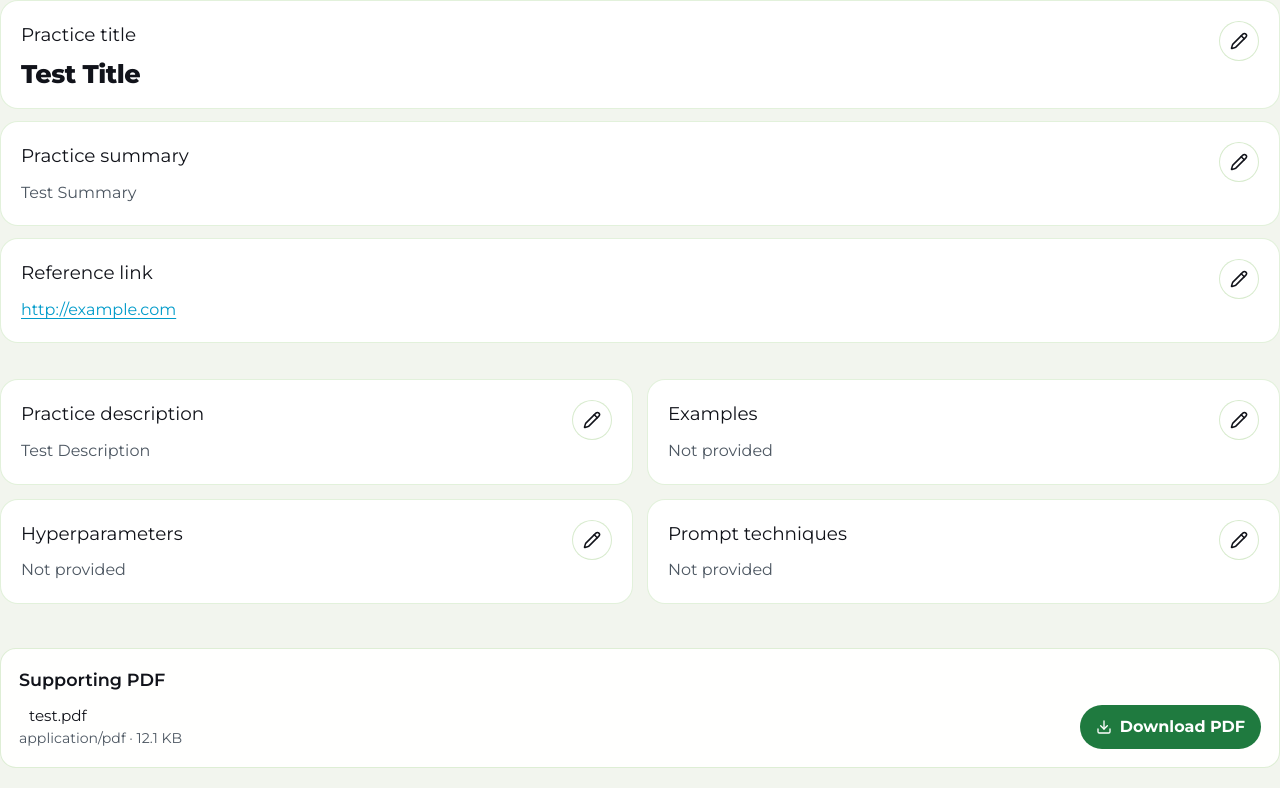
RequestDetailsClient › should allow requester to edit a field
Click the button named "Edit" at (1239, 41), box [1219,21,1259,61]
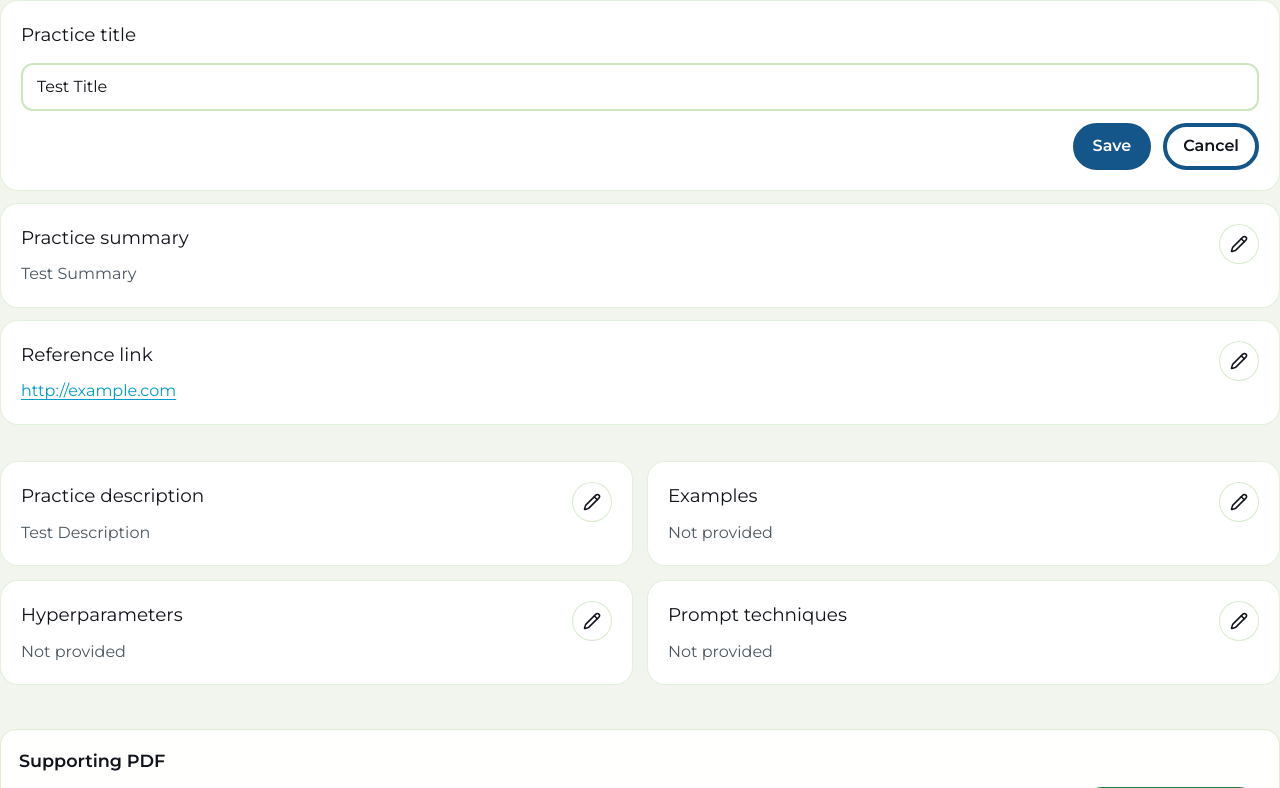
Expected: the field named "Practice title" is shown
Replace the text in the field named "Practice title" with "New Title" at (640, 87), box [21,63,1259,111]
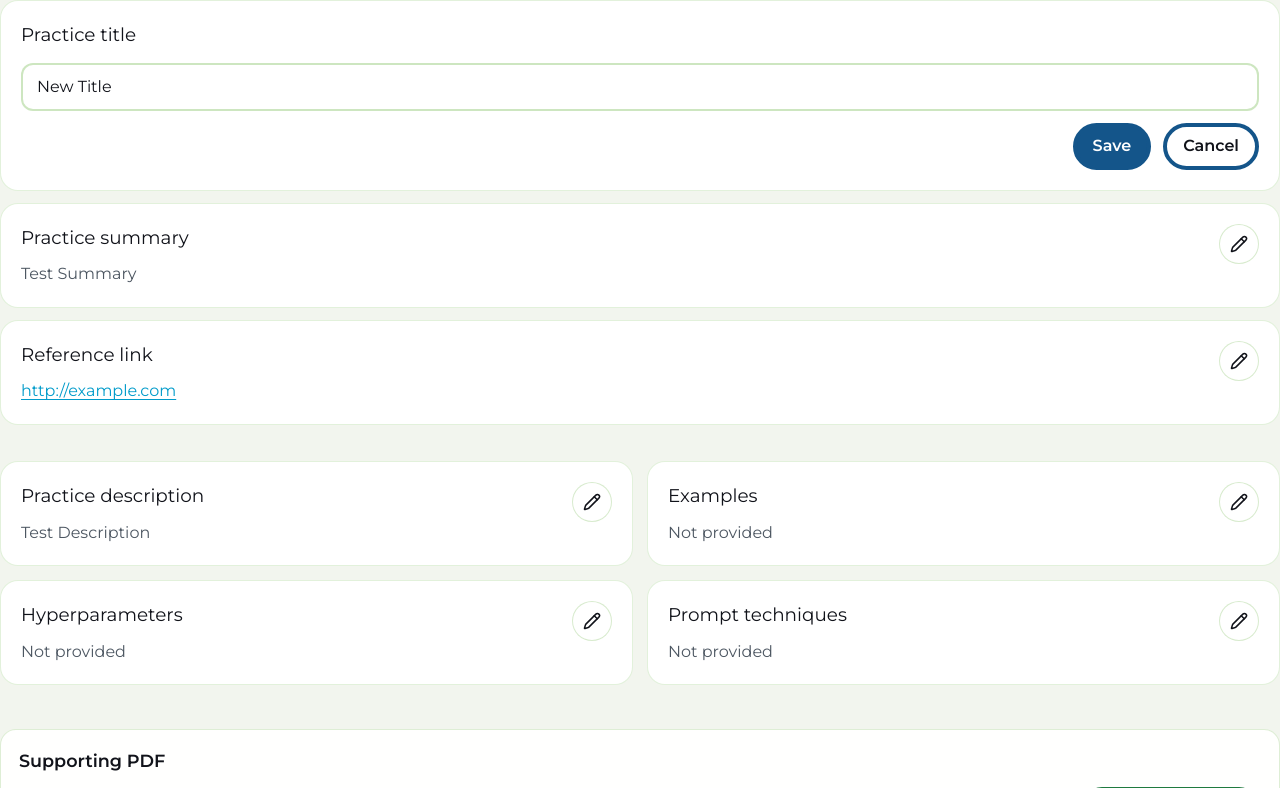
Click the button "Save" at (1112, 146), box [1073,123,1151,170]
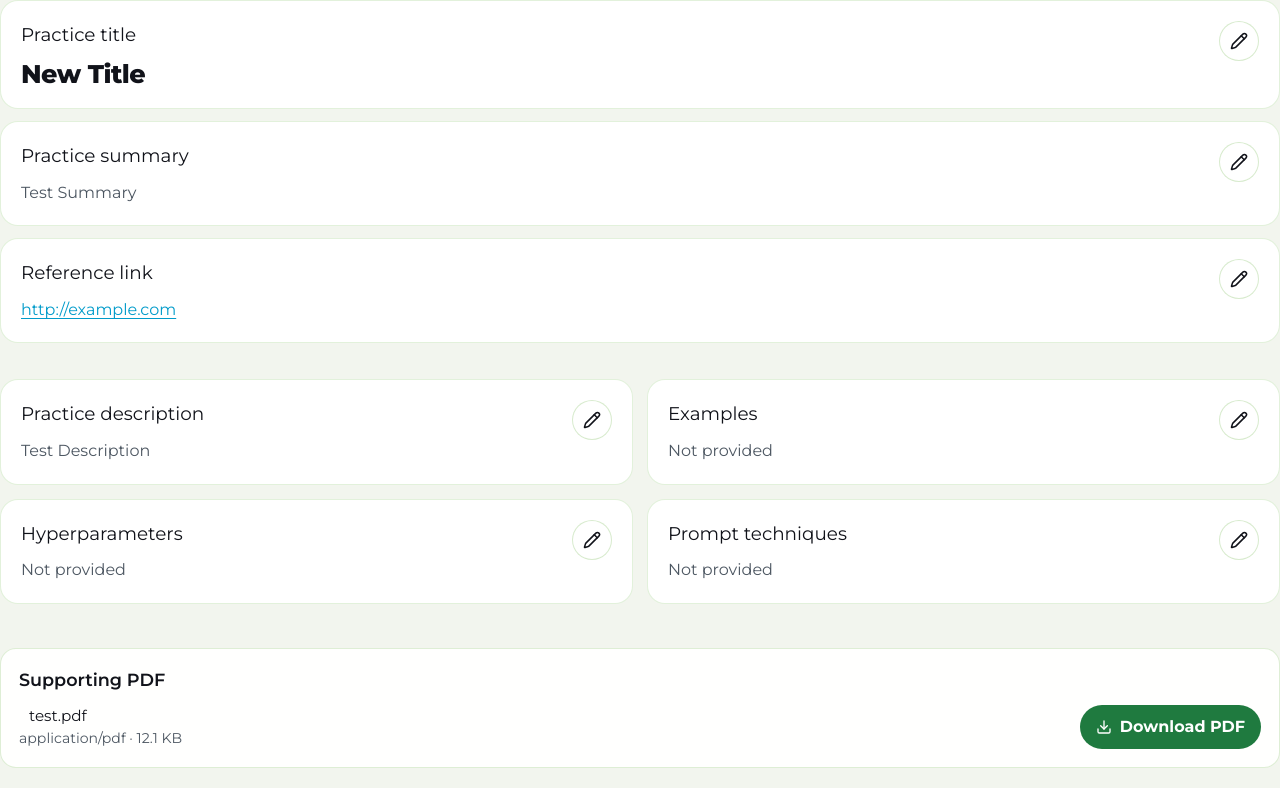
Expected: the text "New Title" is shown, [21,58,145,89]
